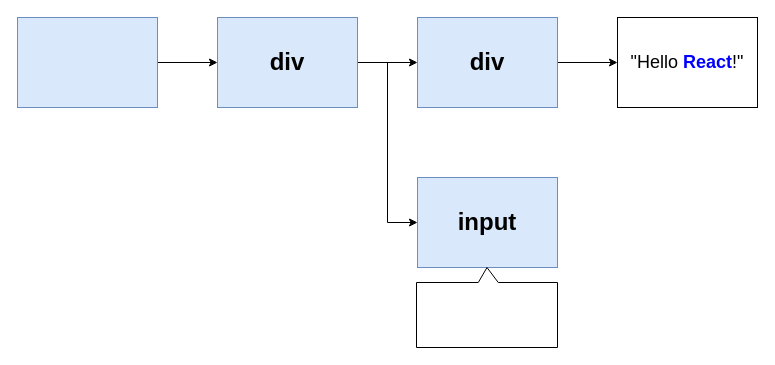
Image size: 775x365. Some labels were removed from this diagram. Each missing label, with the centre of its shape:
App: [87,62]
type: "text" value: " React ": [487,307]
